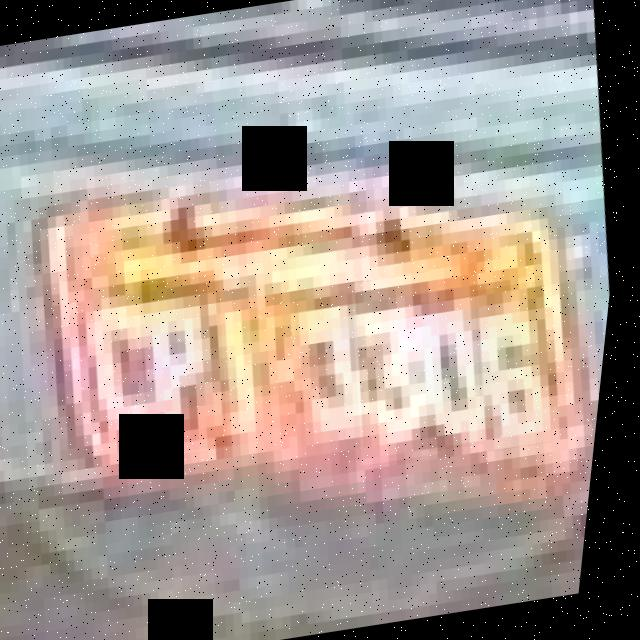0: (415, 294, 506, 452)
3: (343, 272, 463, 466), (287, 289, 390, 457)
6: (467, 281, 576, 454)
P: (131, 274, 252, 457)
